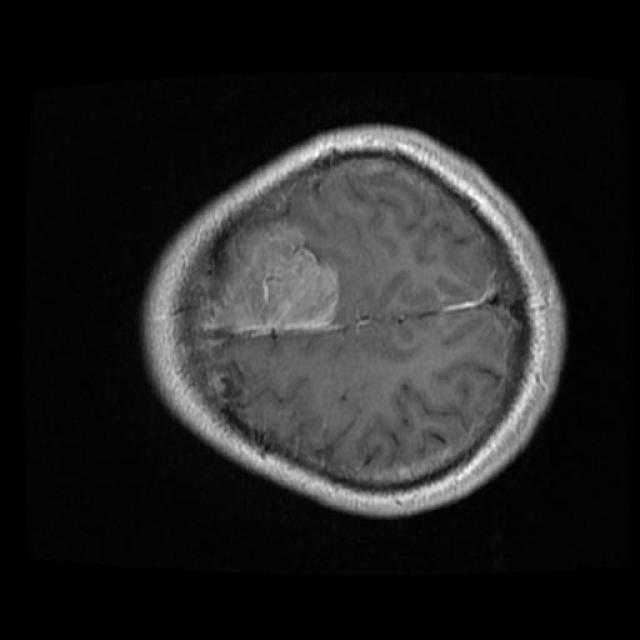Meningioma: (205, 221, 339, 334)
